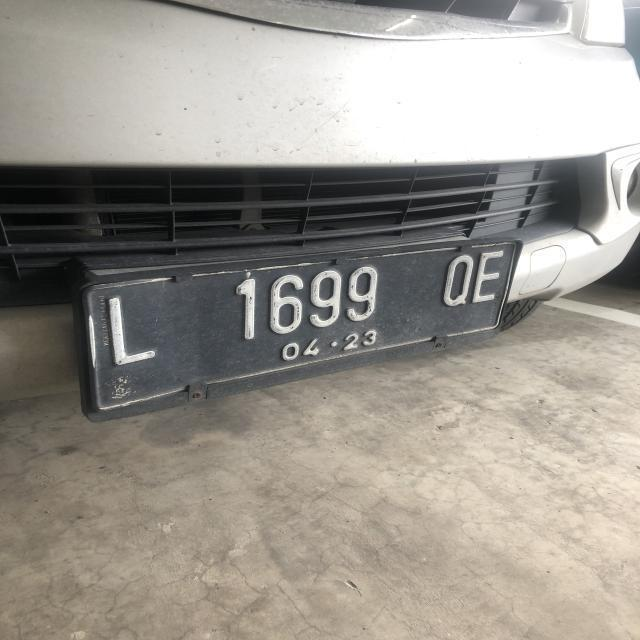1: (231, 276, 264, 341)
6: (268, 271, 306, 336)
9: (306, 266, 342, 328), (346, 264, 382, 324)
E: (473, 250, 505, 314)
L: (105, 290, 159, 368)
Q: (442, 252, 475, 314)
